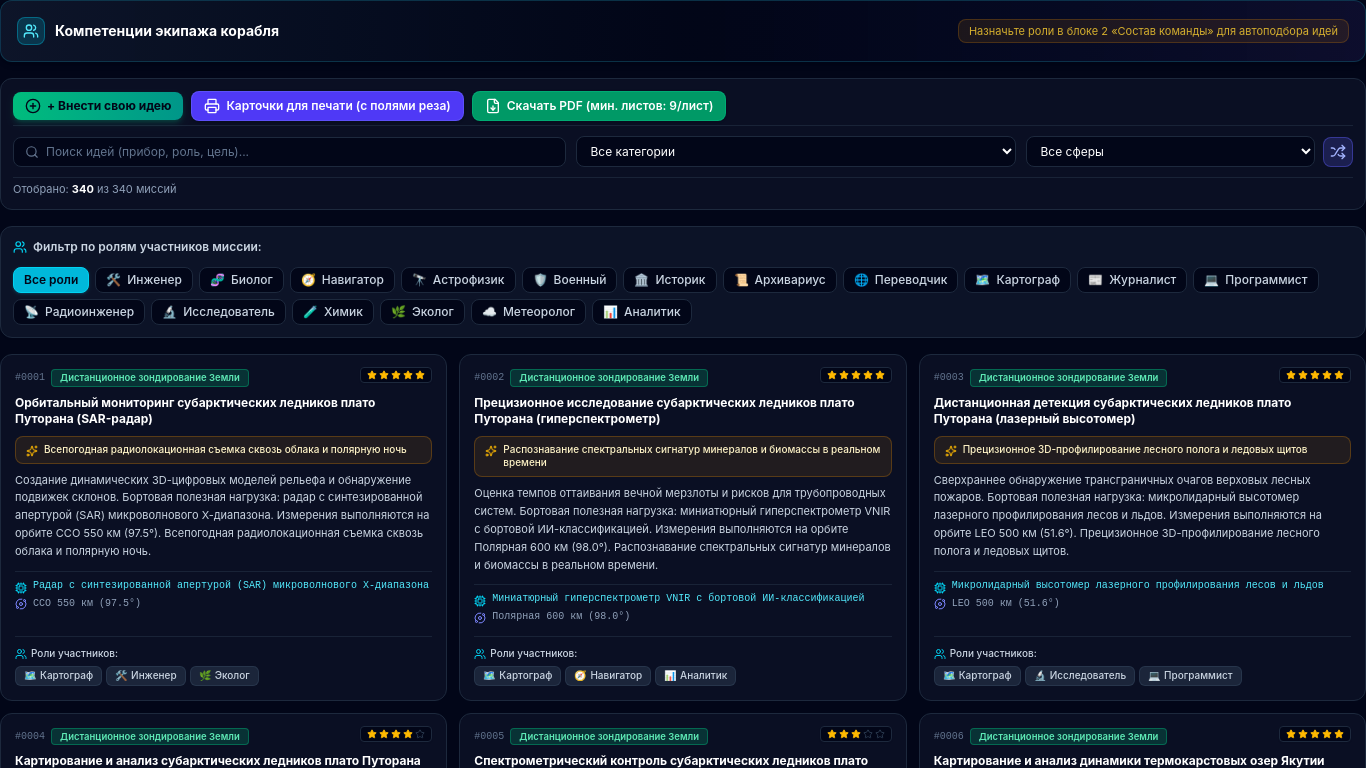
CubeSatIdeasCatalog component › allows team to open custom idea modal and add their own idea
Later steps or results of the test are not shown.
Click the button "+ Внести свою идею" at (98, 106), box [13, 92, 183, 120]
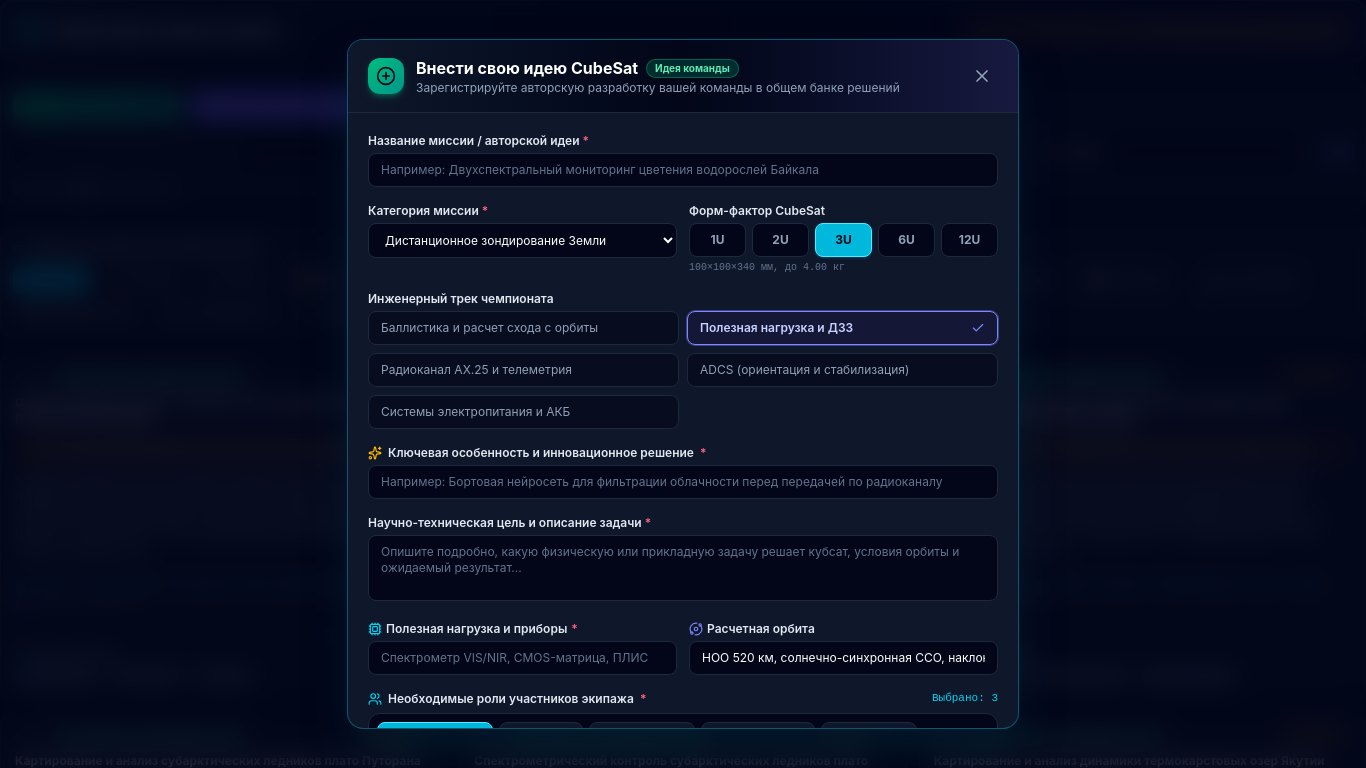
expect the heading "Внести свою идею CubeSat" is shown: met, box [416, 56, 638, 80]
expect the field with placeholder "Например: Двухспектральный мониторинг" is shown: met, box [368, 153, 998, 187]
